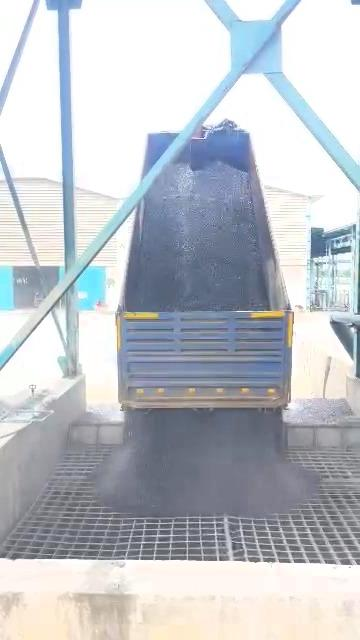gravel: (95, 410, 318, 517), (127, 162, 268, 310), (284, 398, 357, 428)
